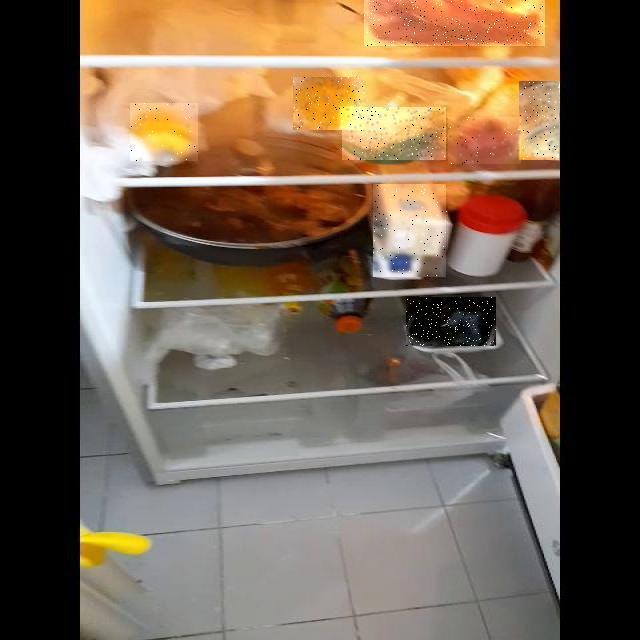Broccoli: (407, 297, 497, 346)
Carrot: (364, 0, 545, 46)
Chillies: (342, 107, 446, 160)
Lemon: (131, 103, 199, 161), (294, 77, 366, 130)
Milk: (374, 184, 448, 277)
Tomato Paste: (448, 117, 521, 164)
Yoghurt: (519, 81, 559, 160)
